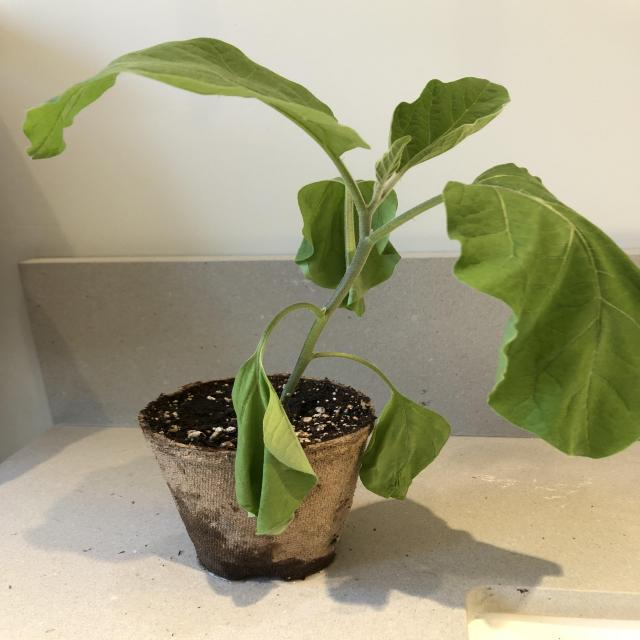brinjal: (23, 37, 639, 534)
